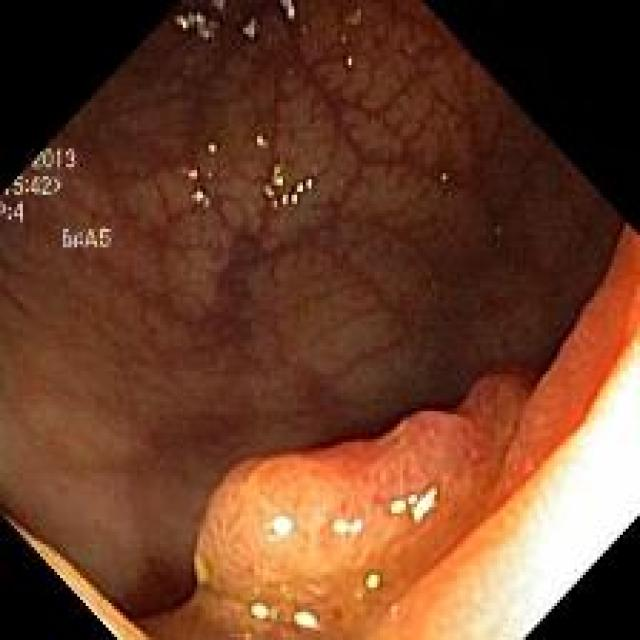Polyps: (141, 372, 532, 640)
